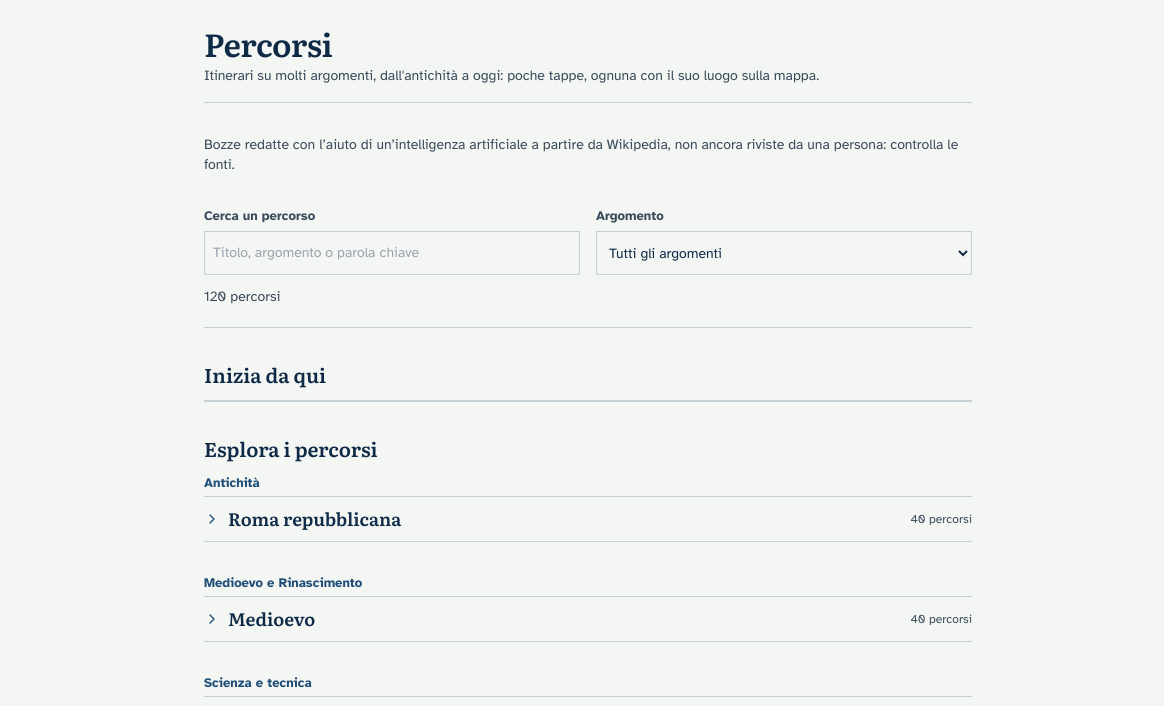
Test: PathsPage with many paths › searches without accents, in the address too, and counts the topics that still match
This screenshot has width=1164, height=706.
Type "perche" into the search field labelled "Cerca un percorso" at {"x": 392, "y": 253}, box [204, 231, 580, 275]
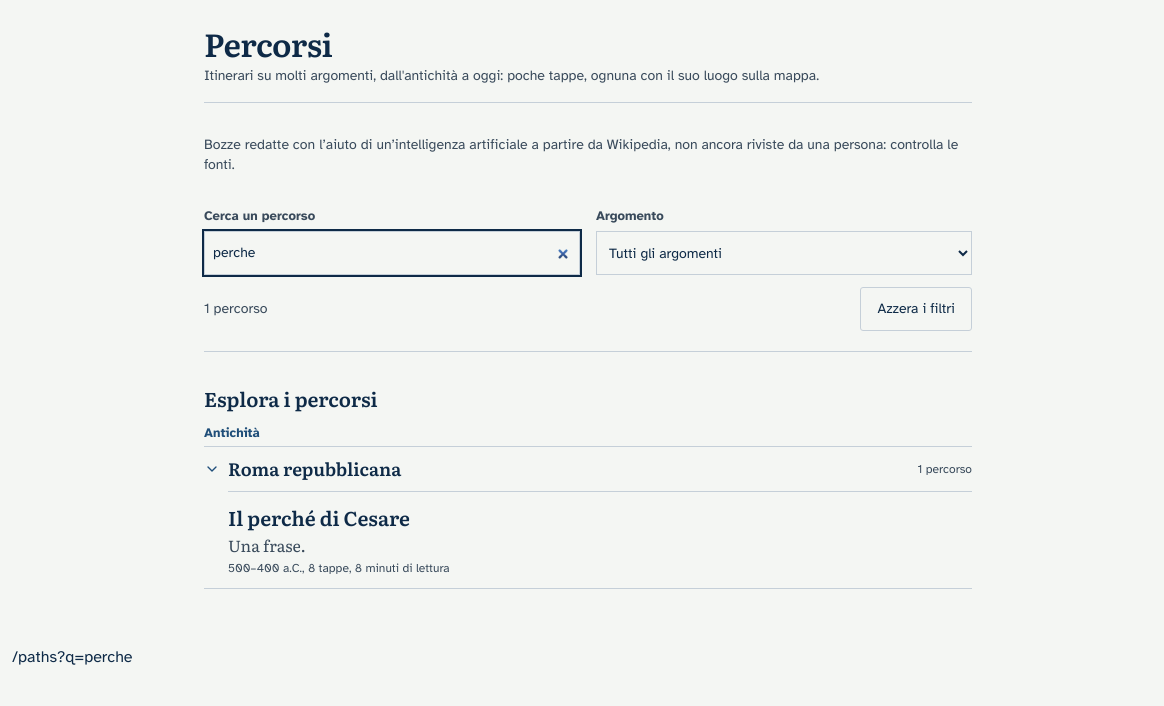
Expected: the link "Il perché di Cesare" is shown, [228, 502, 450, 574]
Expected: the text with test id "where" reads "/paths?q=perche", [12, 646, 132, 666]
